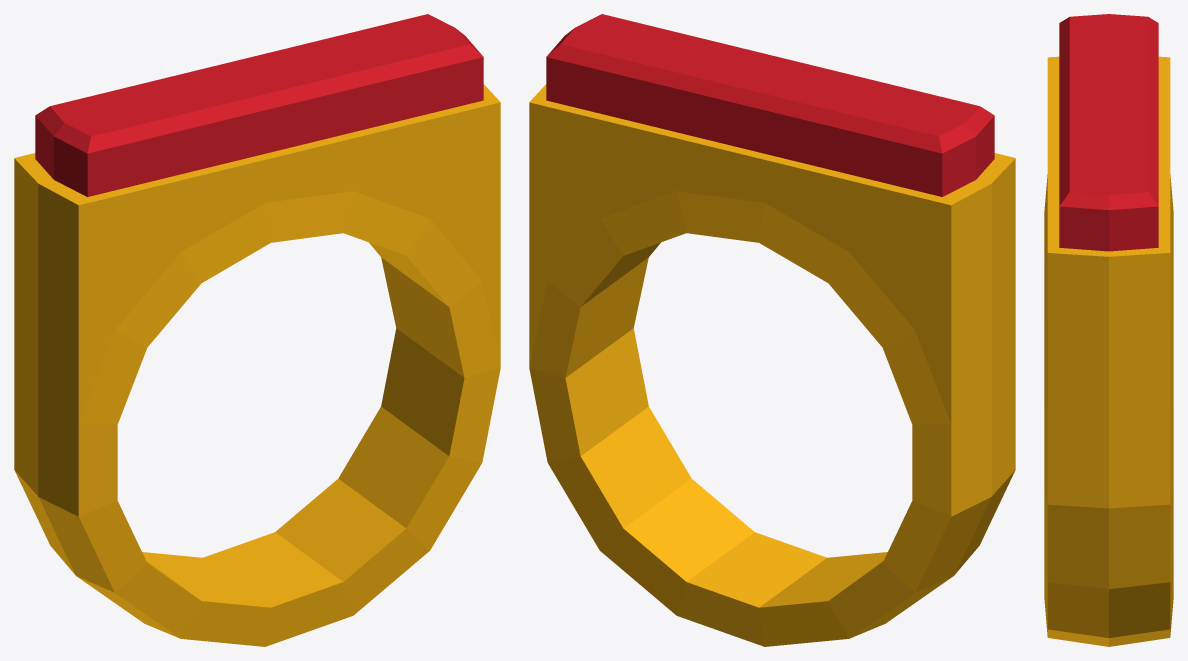
File: Ring3.glb
3 views of the same model, side by side, from view 1: azimuth 30°, elevation 25°; view 2: azimuth 150°, elevation 25°; view 3: azimuth 270°, elevation 25° (orthographic). The views are drawn at different scales.
Visible parts, largest first — view 1: Ring3_Torus; view 2: Ring3_Torus; view 3: Ring3_Torus.
Boxes of the visible parts, x1,y1,x2,y2 form: Ring3_Torus: (14, 14, 500, 646); Ring3_Torus: (529, 14, 1015, 646); Ring3_Torus: (1044, 14, 1173, 646).
Size of the model in its own units: 0.6693 by 0.8025 by 0.1804.
1 material, 1 textured.
